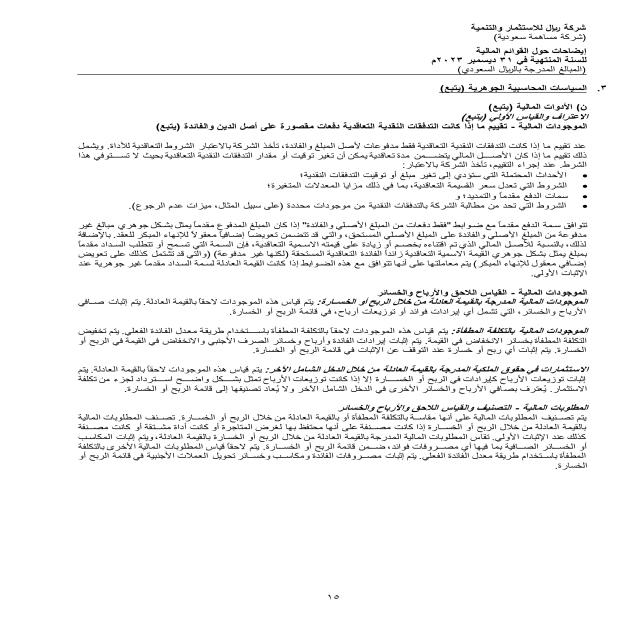notes: (471, 47, 591, 57)
text: (61, 84, 610, 472)
